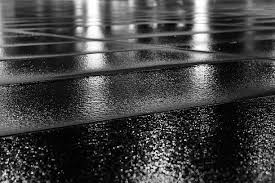Wet-floor: (3, 1, 275, 176)
